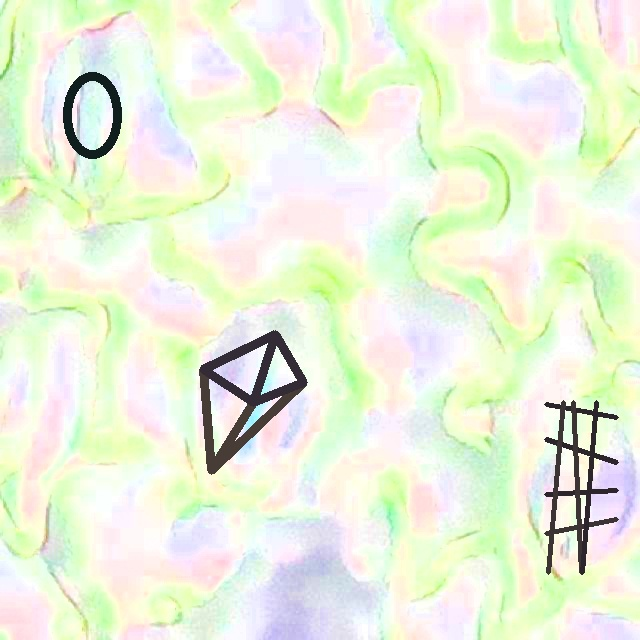close: (545, 401, 618, 574)
open: (199, 330, 307, 474), (62, 70, 121, 160)
